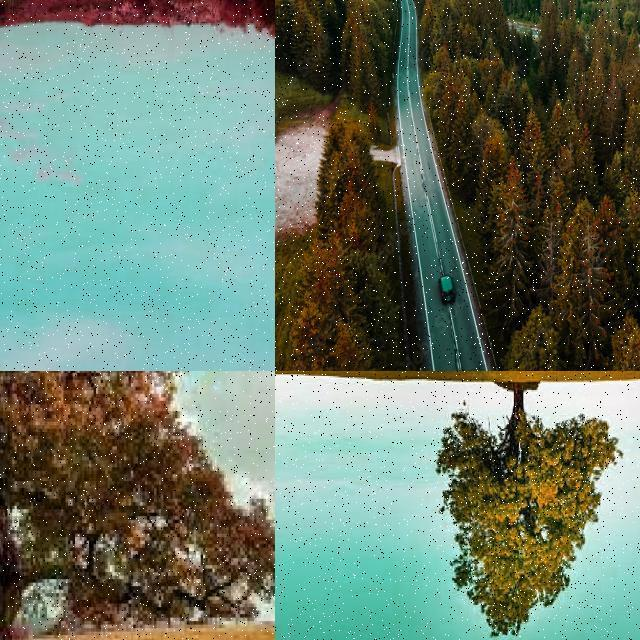tree: (0, 371, 275, 640), (432, 379, 607, 640), (0, 54, 78, 262), (554, 202, 610, 356), (489, 150, 531, 318), (502, 311, 560, 371), (591, 308, 640, 371), (350, 21, 382, 110), (300, 13, 338, 87), (596, 65, 624, 155), (476, 130, 504, 214), (448, 93, 470, 193), (332, 324, 374, 372), (623, 188, 640, 299), (607, 141, 640, 198), (574, 129, 598, 203), (520, 110, 548, 170), (540, 0, 560, 80), (275, 0, 297, 68), (544, 177, 572, 223), (564, 44, 584, 96), (428, 11, 448, 57), (548, 98, 566, 142), (376, 42, 390, 82), (321, 1, 339, 32), (276, 0, 284, 56), (486, 1, 502, 23), (518, 0, 534, 20), (622, 8, 634, 34), (484, 84, 496, 108)
